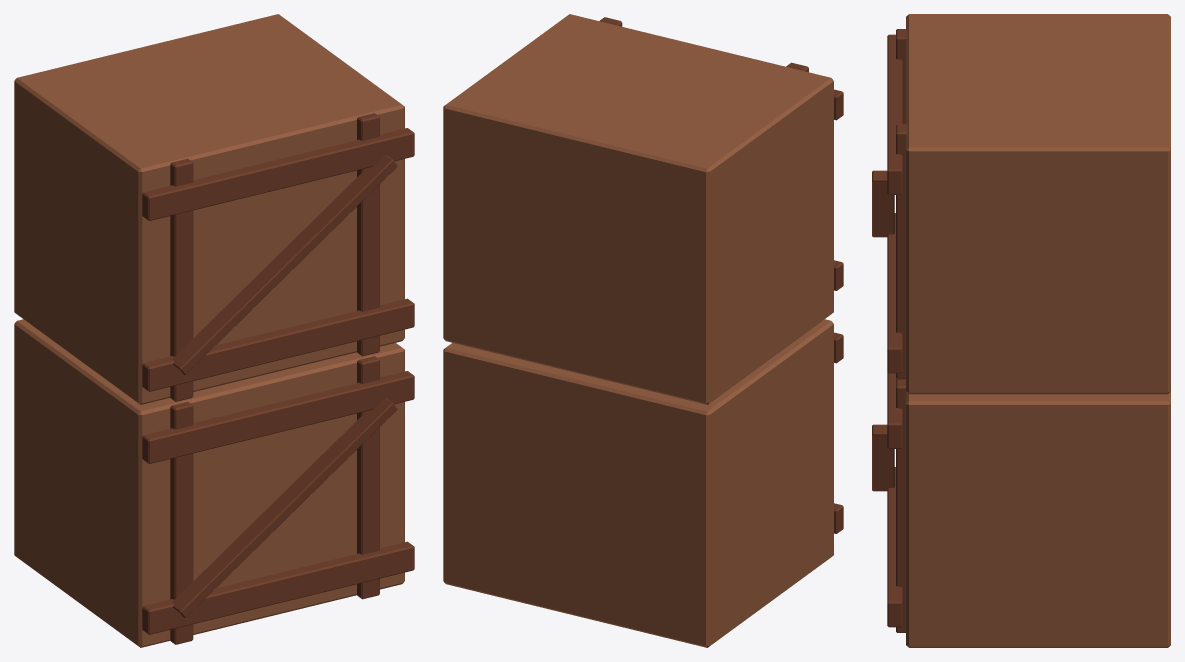
Rendered from grain_crates_02.glb.
3 renders of one model, left to right at view 1: azimuth 30°, elevation 25°; view 2: azimuth 150°, elevation 25°; view 3: azimuth 270°, elevation 25°, orthographic. The views are drawn at different scales.
Parts seen in each view (by area): view 1: Box_001, Box, Cross_003, Cross_001, Cross, Cross_002, Diagonal, Diagonal_001, Strap, Strap_002, Strap_001, Strap_003; view 2: Box_001, Box; view 3: Box_001, Box, Cross_003, Strap_003, Strap_001, Cross_002, Cross, Diagonal_001, Diagonal, Cross_001, Strap_002.
Boxes of the visible parts, x1=… form: Box_001: x1=14, y1=14, x2=404, y2=404; Box: x1=14, y1=319, x2=404, y2=647; Cross_003: x1=142, y1=128, x2=414, y2=220; Cross_001: x1=142, y1=371, x2=414, y2=463; Cross: x1=142, y1=541, x2=414, y2=634; Cross_002: x1=142, y1=298, x2=414, y2=391; Diagonal: x1=172, y1=398, x2=397, y2=617; Diagonal_001: x1=172, y1=155, x2=397, y2=374; Strap: x1=170, y1=401, x2=193, y2=644; Strap_002: x1=170, y1=158, x2=193, y2=401; Strap_001: x1=357, y1=356, x2=379, y2=599; Strap_003: x1=357, y1=113, x2=379, y2=356; Box_001: x1=443, y1=14, x2=833, y2=404; Box: x1=443, y1=319, x2=833, y2=647; Box_001: x1=906, y1=14, x2=1170, y2=394; Box: x1=906, y1=392, x2=1170, y2=647; Cross_003: x1=887, y1=34, x2=902, y2=194; Strap_003: x1=896, y1=124, x2=907, y2=379; Strap_001: x1=896, y1=378, x2=905, y2=632; Cross_002: x1=887, y1=213, x2=902, y2=373; Cross: x1=887, y1=467, x2=902, y2=627; Diagonal_001: x1=872, y1=170, x2=894, y2=237; Diagonal: x1=872, y1=424, x2=894, y2=491; Cross_001: x1=887, y1=372, x2=902, y2=448; Strap_002: x1=896, y1=29, x2=907, y2=123.
Bounding box in the file's own units: 0.85 × 1.46 × 0.79.
